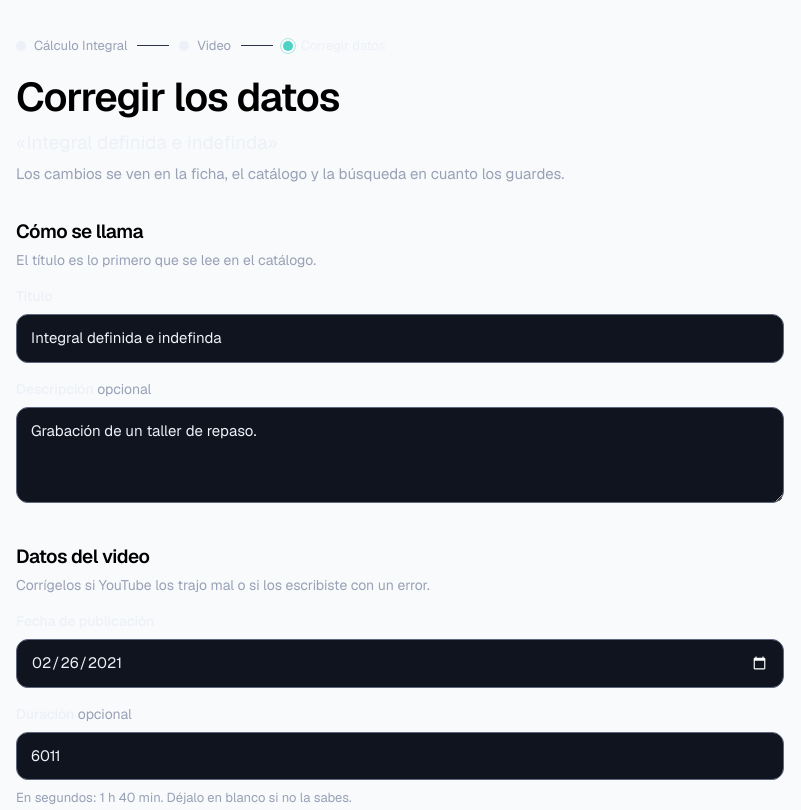
Test: EditResourcePage › aplica en el navegador las reglas del registro y lleva el foco al primer error
The width and height of the screenshot is (801, 810).
Clear the field labelled "Título": point(400, 338) [16, 314, 784, 363]
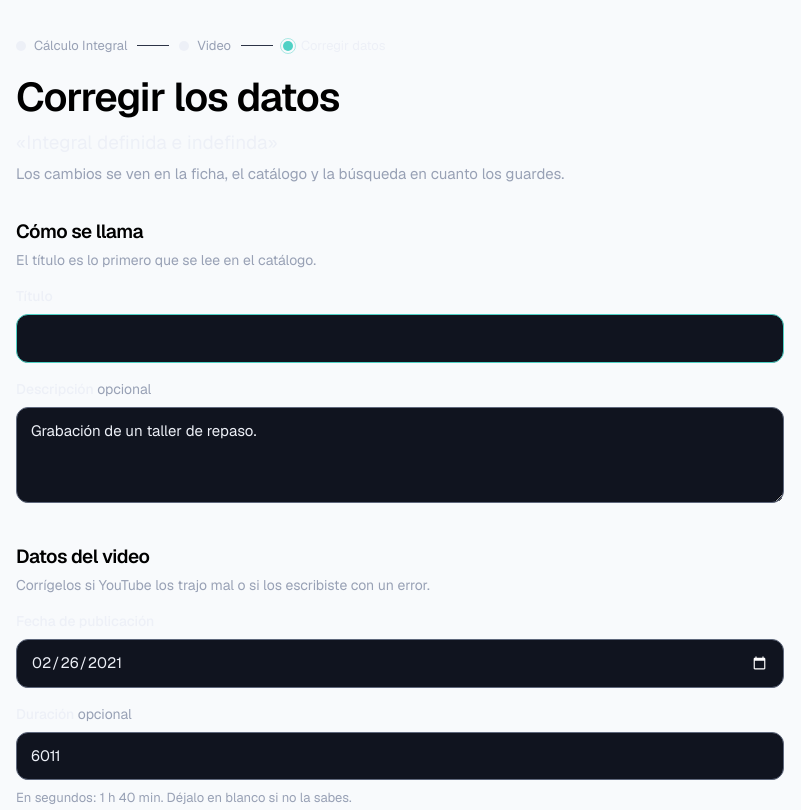
Replace the text in the number field labelled "Duración opcional" with "0": point(400, 756) [16, 732, 784, 780]
(page scrolled)
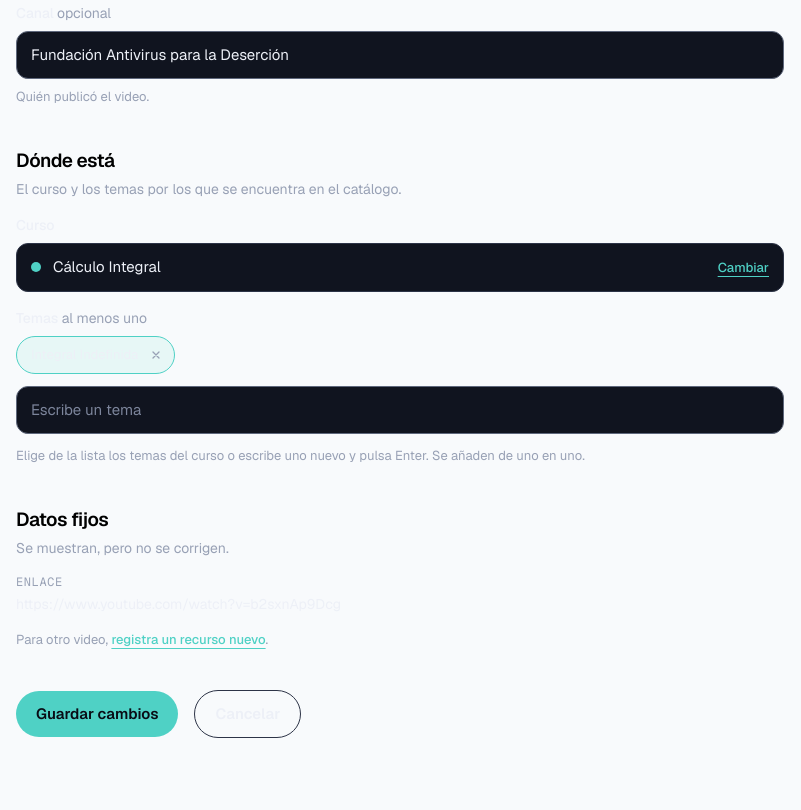
Click the button "Guardar cambios": point(97, 714) [16, 691, 178, 737]
(page scrolled)
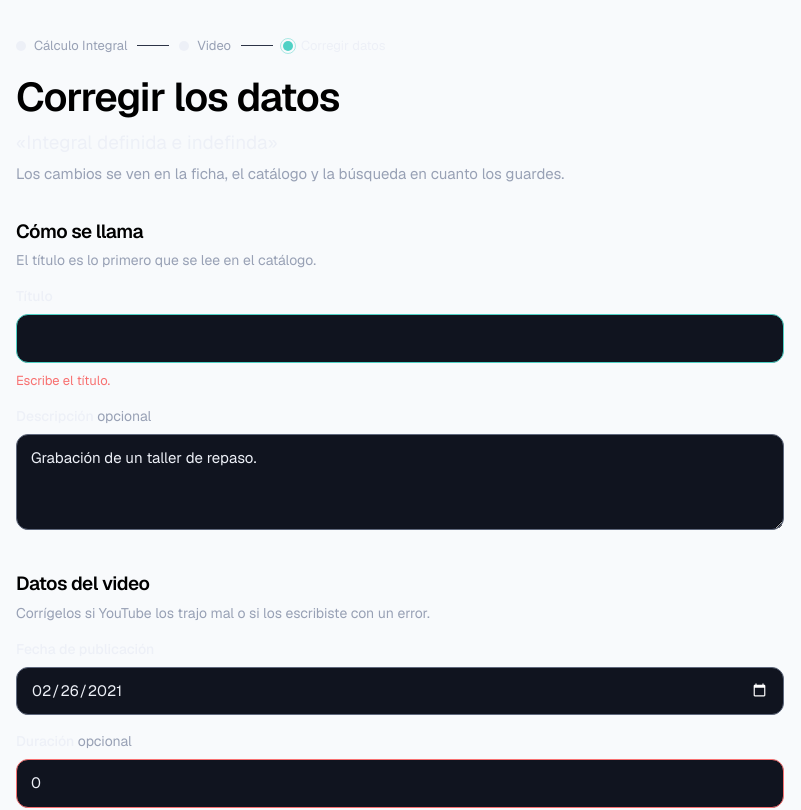
Check: the text "Escribe el título." is shown, box [16, 372, 110, 389]
